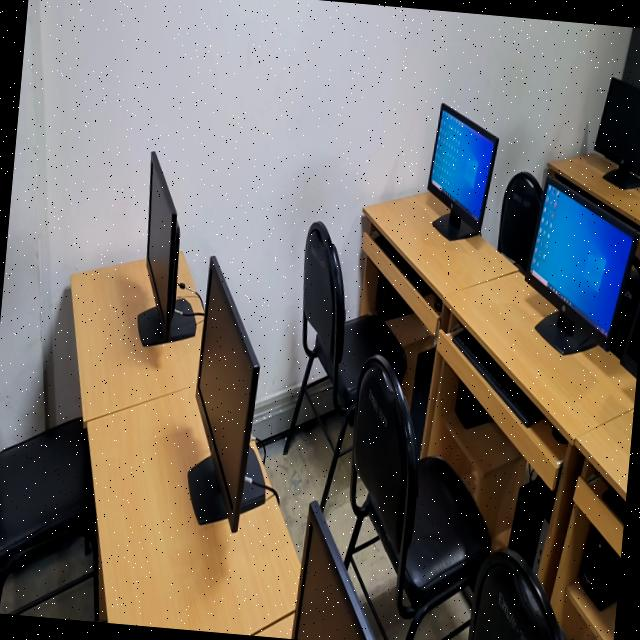Chair: (352, 357, 489, 640), (283, 220, 405, 452), (0, 417, 97, 618), (466, 548, 570, 640), (496, 170, 541, 271)
Cpu: (507, 476, 553, 566), (409, 345, 434, 455)
Keyboard: (452, 327, 541, 424), (371, 232, 433, 294), (601, 487, 625, 525)
Monitor: (187, 255, 264, 531), (524, 174, 637, 353), (291, 499, 376, 640), (136, 150, 195, 344), (426, 102, 497, 239), (593, 76, 640, 188), (619, 296, 640, 378)
